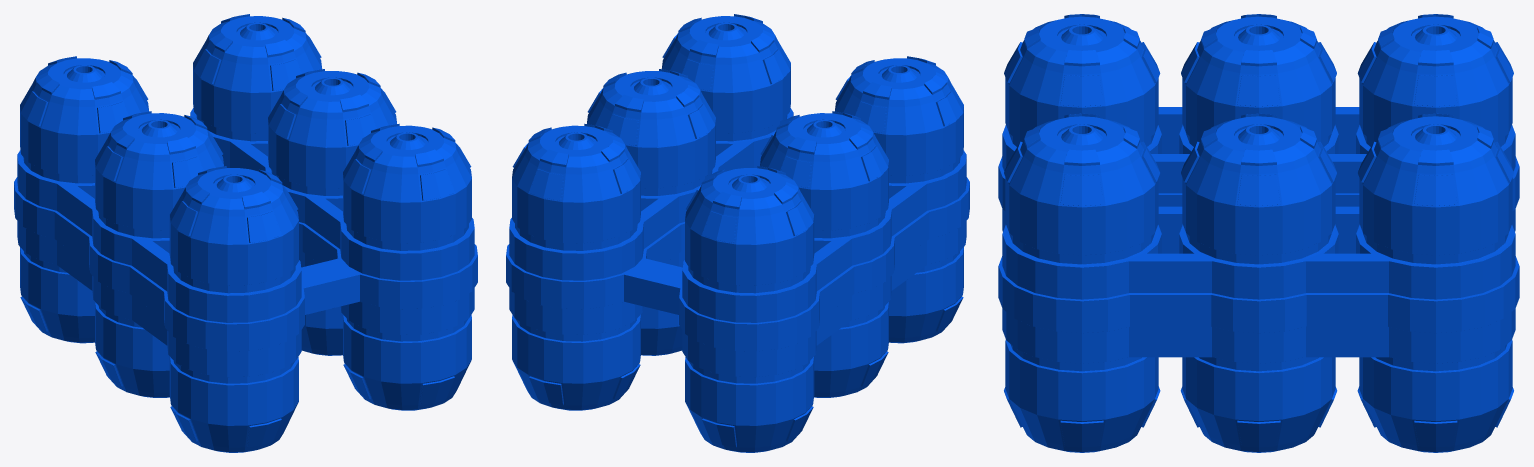
The model's file is Gas_Containers.001.fbx.
The picture shows the model from 3 angles, left to right: view 1: azimuth 30°, elevation 25°; view 2: azimuth 150°, elevation 25°; view 3: azimuth 270°, elevation 25°; orthographic projection. The views are drawn at different scales.
Parts seen in each view (by area): view 1: Gas_Containers.001; view 2: Gas_Containers.001; view 3: Gas_Containers.001.
Boxes of the visible parts, x1,y1,x2,y2 form: Gas_Containers.001: (14,14,477,452); Gas_Containers.001: (506,14,969,452); Gas_Containers.001: (998,14,1519,452).
Size of the model in its own units: 684 by 570 by 884.
